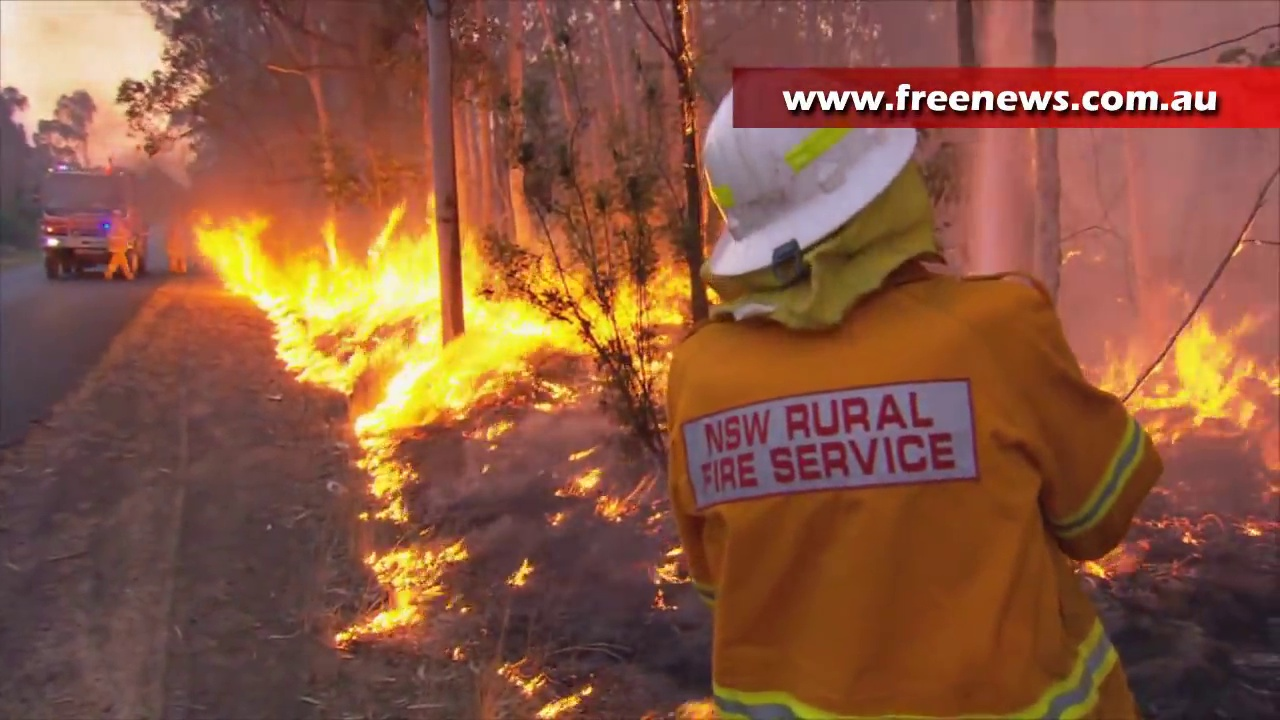fire: (198, 206, 705, 417), (1100, 305, 1265, 440), (332, 544, 461, 647), (354, 418, 418, 525), (496, 658, 581, 720), (654, 560, 677, 588), (603, 498, 626, 522), (578, 468, 600, 491)
